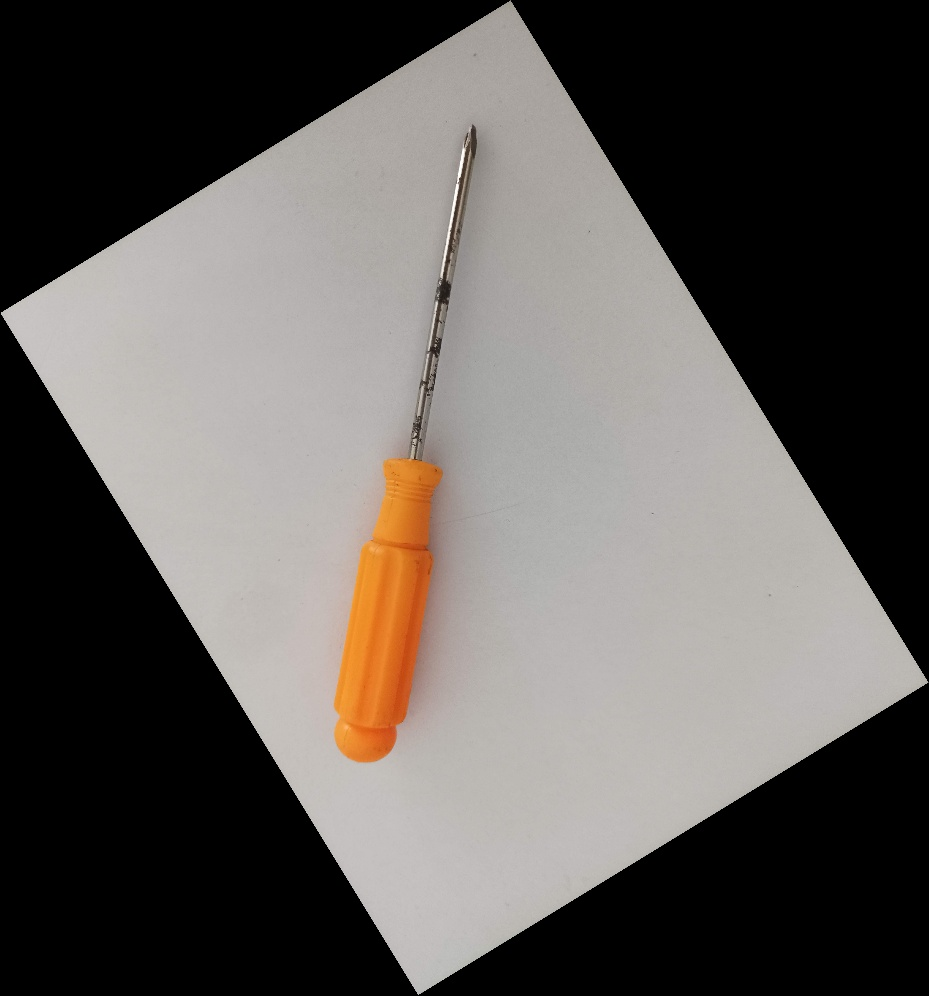screwdriver: (329, 121, 481, 765)
